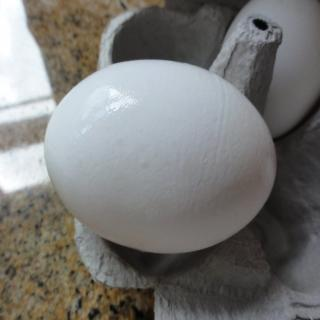Egg: (42, 60, 276, 255), (227, 0, 320, 139)
